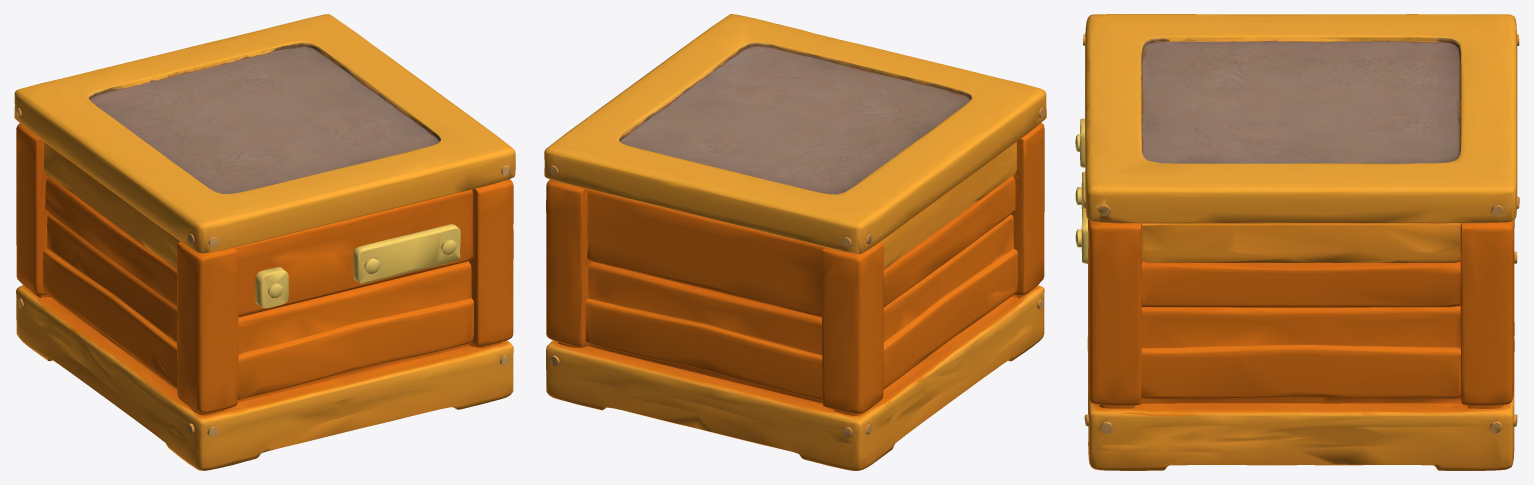
File: crate.glb
3 views of the same model, side by side, from view 1: azimuth 30°, elevation 25°; view 2: azimuth 150°, elevation 25°; view 3: azimuth 270°, elevation 25° (orthographic). The views are drawn at different scales.
Parts seen in each view (by area): view 1: tripo_node_af1b977f-9f24-4901-af7f-9ad478cf84cb; view 2: tripo_node_af1b977f-9f24-4901-af7f-9ad478cf84cb; view 3: tripo_node_af1b977f-9f24-4901-af7f-9ad478cf84cb.
Boxes of the visible parts, x1,y1,x2,y2 form: tripo_node_af1b977f-9f24-4901-af7f-9ad478cf84cb: (14, 14, 515, 470); tripo_node_af1b977f-9f24-4901-af7f-9ad478cf84cb: (544, 14, 1046, 470); tripo_node_af1b977f-9f24-4901-af7f-9ad478cf84cb: (1075, 14, 1519, 470).
Bounding box in the file's own units: 0.8104 × 0.6 × 0.8473.
1 material, 1 textured.
